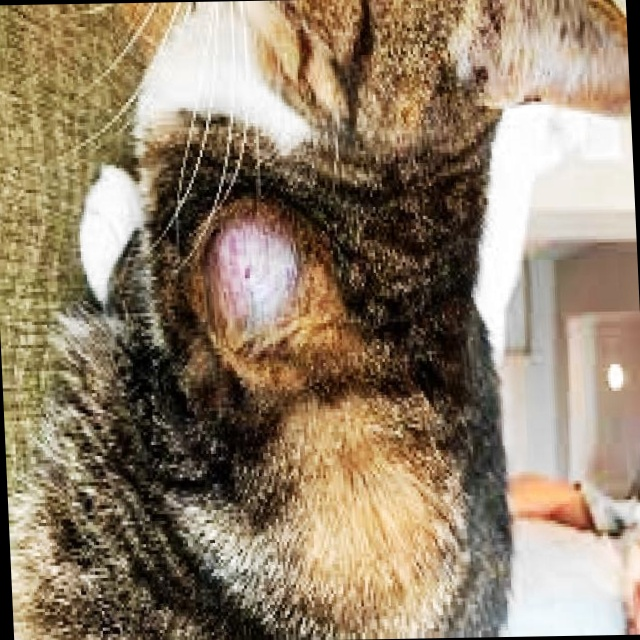lump_and_bump: (207, 211, 299, 332)
